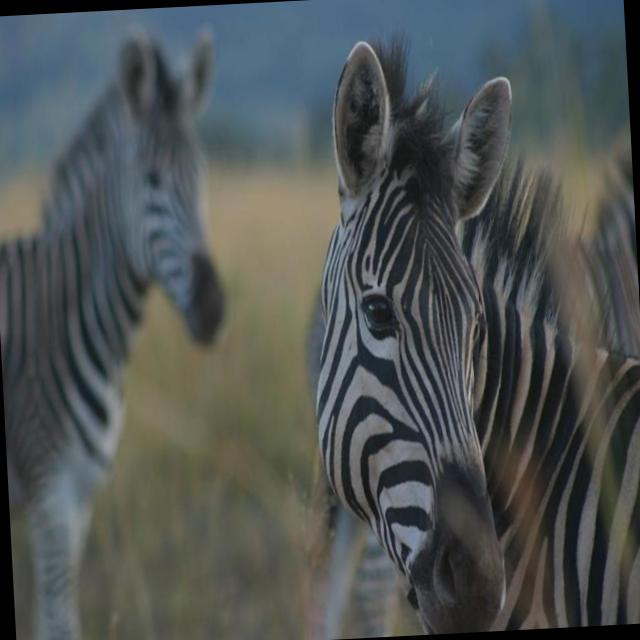zebra: (282, 23, 575, 622), (0, 5, 242, 502)
